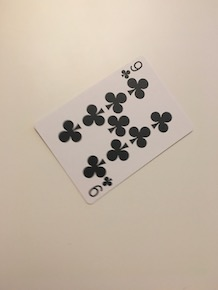NineOfClubs: (29, 52, 196, 207)
